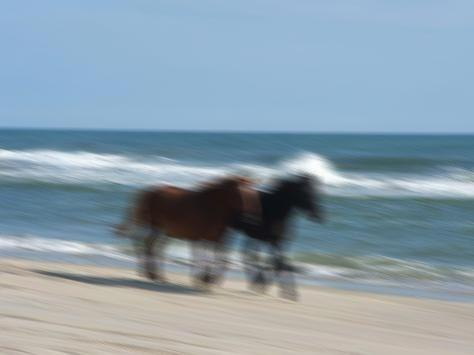horse: (108, 172, 259, 290), (203, 168, 324, 300)
